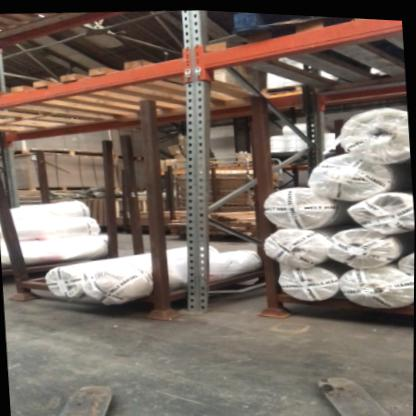vertical_damage: (187, 284, 222, 324)
